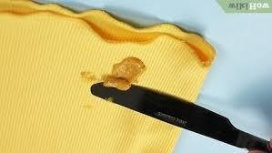mustard: (105, 58, 139, 91), (83, 69, 96, 85)
